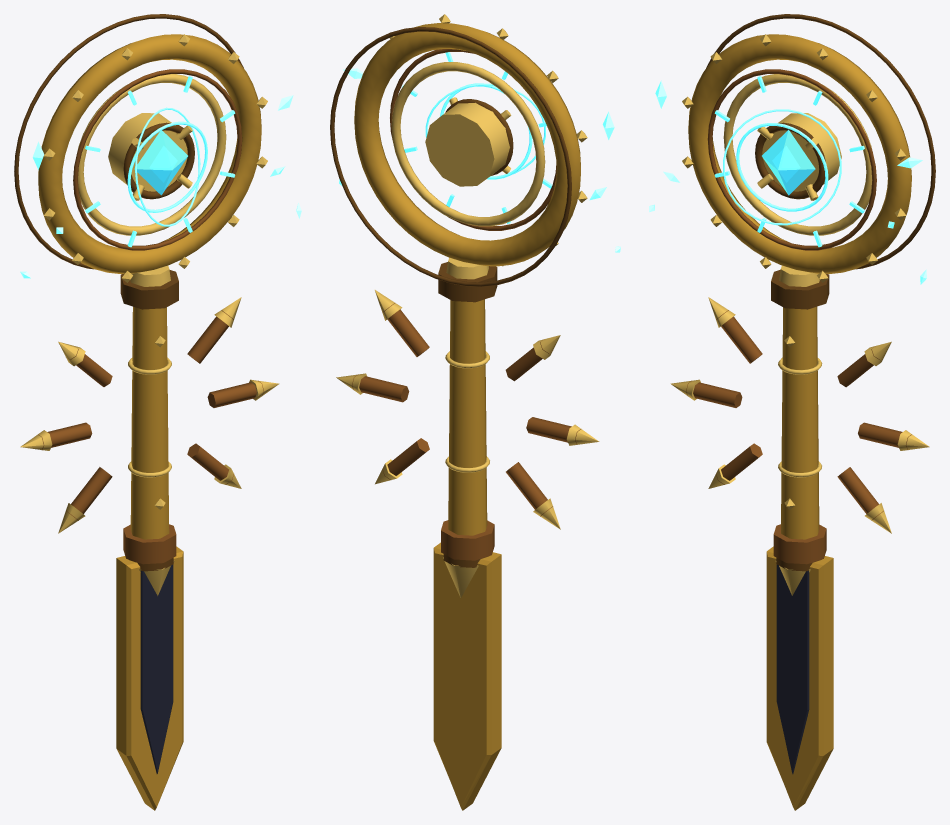
File: asset.glb
3 views of the same model, side by side, from view 1: azimuth 30°, elevation 25°; view 2: azimuth 150°, elevation 25°; view 3: azimuth 330°, elevation 25° (orthographic).
Parts seen in each view (by area): view 1: OuterGoldBow, PointedKeyBit, MainShaft, KeyBitInset, RadialProng (×6), InsetBowRing, OuterBronzeRing, RearHalo, CentralMedallion, FacetedArcaneCrystal, LowerShaftCollar, UpperShaftCollar (+4 smaller); view 2: OuterGoldBow, PointedKeyBit, MainShaft, CentralMedallion, InsetBowRing, RadialProng (×6), RearHalo, LowerShaftCollar, UpperShaftCollar, OuterBronzeRing, UpperShaftCap, MedallionRim (+1 smaller); view 3: OuterGoldBow, PointedKeyBit, MainShaft, KeyBitInset, RadialProng (×6), InsetBowRing, OuterBronzeRing, RearHalo, CentralMedallion, FacetedArcaneCrystal, LowerShaftCollar, UpperShaftCollar (+4 smaller).
Boxes of the visible parts, x1,y1,x2,y2 form: OuterGoldBow: (38, 34, 261, 274); PointedKeyBit: (116, 546, 183, 810); MainShaft: (130, 306, 169, 539); KeyBitInset: (140, 564, 173, 773); RadialProng (×6): (38, 310, 263, 520); InsetBowRing: (78, 74, 226, 235); OuterBronzeRing: (73, 69, 242, 250); RearHalo: (14, 14, 243, 269); CentralMedallion: (108, 113, 187, 191); FacetedArcaneCrystal: (134, 130, 187, 195); LowerShaftCollar: (123, 524, 176, 564); UpperShaftCollar: (120, 269, 178, 309); OuterGoldBow: (354, 23, 580, 266); PointedKeyBit: (433, 542, 501, 810); MainShaft: (448, 299, 487, 535); CentralMedallion: (425, 102, 509, 186); InsetBowRing: (391, 62, 545, 226); RadialProng (×6): (352, 303, 580, 516); RearHalo: (330, 27, 571, 286); LowerShaftCollar: (441, 520, 494, 560); UpperShaftCollar: (438, 262, 497, 302); OuterBronzeRing: (390, 49, 556, 230); UpperShaftCap: (446, 257, 488, 279); MedallionRim: (445, 99, 513, 175); OuterGoldBow: (688, 34, 911, 274); PointedKeyBit: (766, 546, 833, 810); MainShaft: (781, 306, 819, 539); KeyBitInset: (776, 564, 809, 774); RadialProng (×6): (686, 310, 911, 520); InsetBowRing: (723, 74, 872, 235); OuterBronzeRing: (707, 69, 876, 250); RearHalo: (706, 14, 935, 269); CentralMedallion: (762, 113, 841, 191); FacetedArcaneCrystal: (762, 129, 815, 195); LowerShaftCollar: (773, 524, 826, 564); UpperShaftCollar: (771, 269, 829, 309).
Size of the model in its own units: 3.51 by 9.38 by 1.12.
